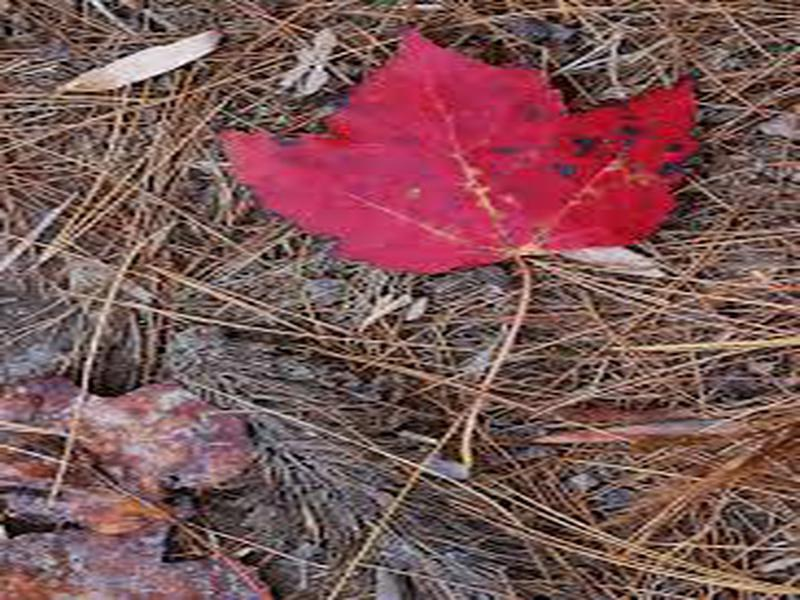leaf: (208, 29, 717, 364)
